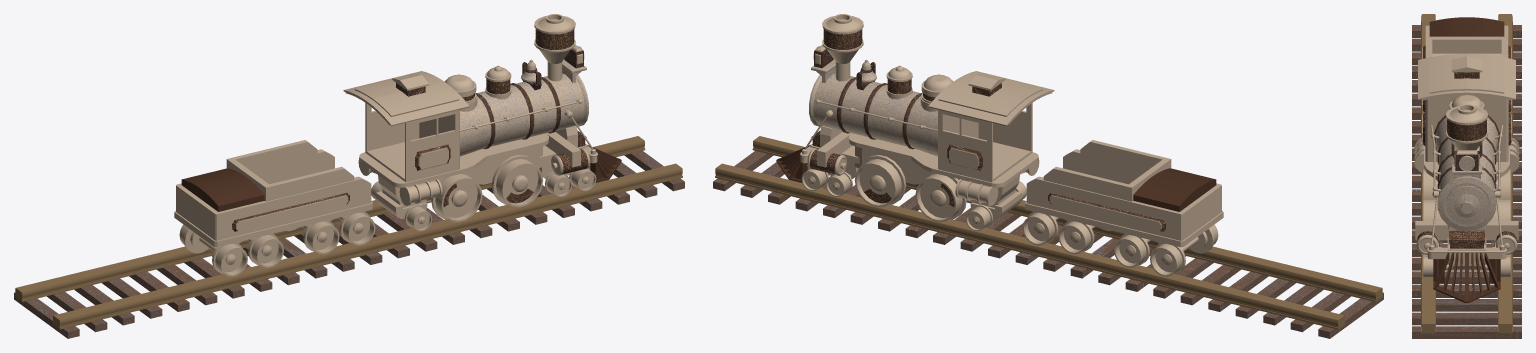
The picture shows the model from 3 angles, left to right: view 1: azimuth 30°, elevation 25°; view 2: azimuth 150°, elevation 25°; view 3: azimuth 270°, elevation 25°; orthographic projection.
Parts seen in each view (by area): view 1: railing (×2), compartment_base (×2), Train_half (×2), group_0 (×4), rail_support_beam (×9), train_top (×2), wheel (×4), group_1, group_2 (×2), decal_1; view 2: railing (×2), compartment_base (×2), Train_half (×2), group_0 (×4), rail_support_beam (×9), train_top (×2), wheel (×4), group_1, group_2 (×2), decal_1; view 3: rail_support_beam (×22), Train_half (×4), group_0 (×9), train_top (×4), railing (×2), compartment_base (×2), group_2 (×5), group_1, wheel (×4), group_17 (×2), group_3 (×4), cylinder_half (×4) (+12 smaller).
Boxes of the visible parts, x1=… form: railing (×2): x1=15, y1=136, x2=682, y2=329; compartment_base (×2): x1=174, y1=140, x2=372, y2=247; Train_half (×2): x1=359, y1=103, x2=598, y2=218; group_0 (×4): x1=460, y1=73, x2=588, y2=156; rail_support_beam (×9): x1=14, y1=151, x2=684, y2=338; train_top (×2): x1=343, y1=71, x2=469, y2=126; wheel (×4): x1=435, y1=159, x2=543, y2=222; group_1: x1=181, y1=168, x2=264, y2=211; group_2 (×2): x1=535, y1=29, x2=574, y2=81; decal_1: x1=236, y1=195, x2=348, y2=230; railing (×2): x1=715, y1=136, x2=1382, y2=329; compartment_base (×2): x1=1025, y1=140, x2=1223, y2=247; Train_half (×2): x1=799, y1=103, x2=1038, y2=218; group_0 (×4): x1=809, y1=73, x2=937, y2=156; rail_support_beam (×9): x1=713, y1=151, x2=1383, y2=338; train_top (×2): x1=928, y1=71, x2=1054, y2=126; wheel (×4): x1=854, y1=159, x2=962, y2=222; group_1: x1=1133, y1=168, x2=1216, y2=211; group_2 (×2): x1=823, y1=29, x2=862, y2=81; decal_1: x1=1049, y1=195, x2=1161, y2=230; rail_support_beam (×22): x1=1412, y1=25, x2=1521, y2=338; Train_half (×4): x1=1415, y1=95, x2=1518, y2=270; group_0 (×9): x1=1434, y1=115, x2=1499, y2=231; train_top (×4): x1=1418, y1=53, x2=1515, y2=100; railing (×2): x1=1421, y1=14, x2=1512, y2=333; compartment_base (×2): x1=1424, y1=25, x2=1509, y2=112; group_2 (×5): x1=1445, y1=104, x2=1488, y2=150; group_1: x1=1429, y1=17, x2=1504, y2=36; wheel (×4): x1=1423, y1=169, x2=1510, y2=220; group_17 (×2): x1=1433, y1=259, x2=1500, y2=302; group_3 (×4): x1=1451, y1=151, x2=1482, y2=179; cylinder_half (×4): x1=1416, y1=234, x2=1517, y2=254.
Bounding box in the file's own units: 1132 × 170 × 306.
